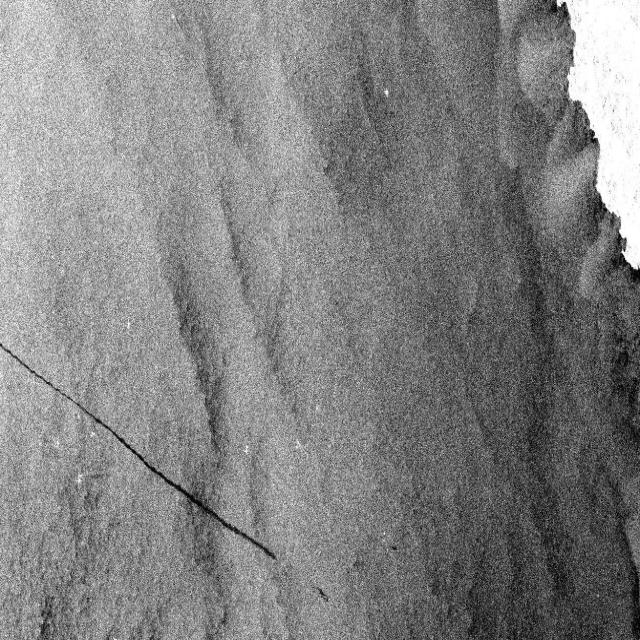look-alike: (596, 462, 640, 631), (603, 320, 640, 444), (607, 244, 640, 293), (588, 187, 606, 235), (541, 1, 561, 26)
oil-spill: (2, 332, 168, 466), (153, 473, 280, 580)
ship: (379, 77, 392, 106), (238, 438, 254, 461), (166, 8, 182, 28), (70, 474, 86, 493), (122, 313, 133, 334)
